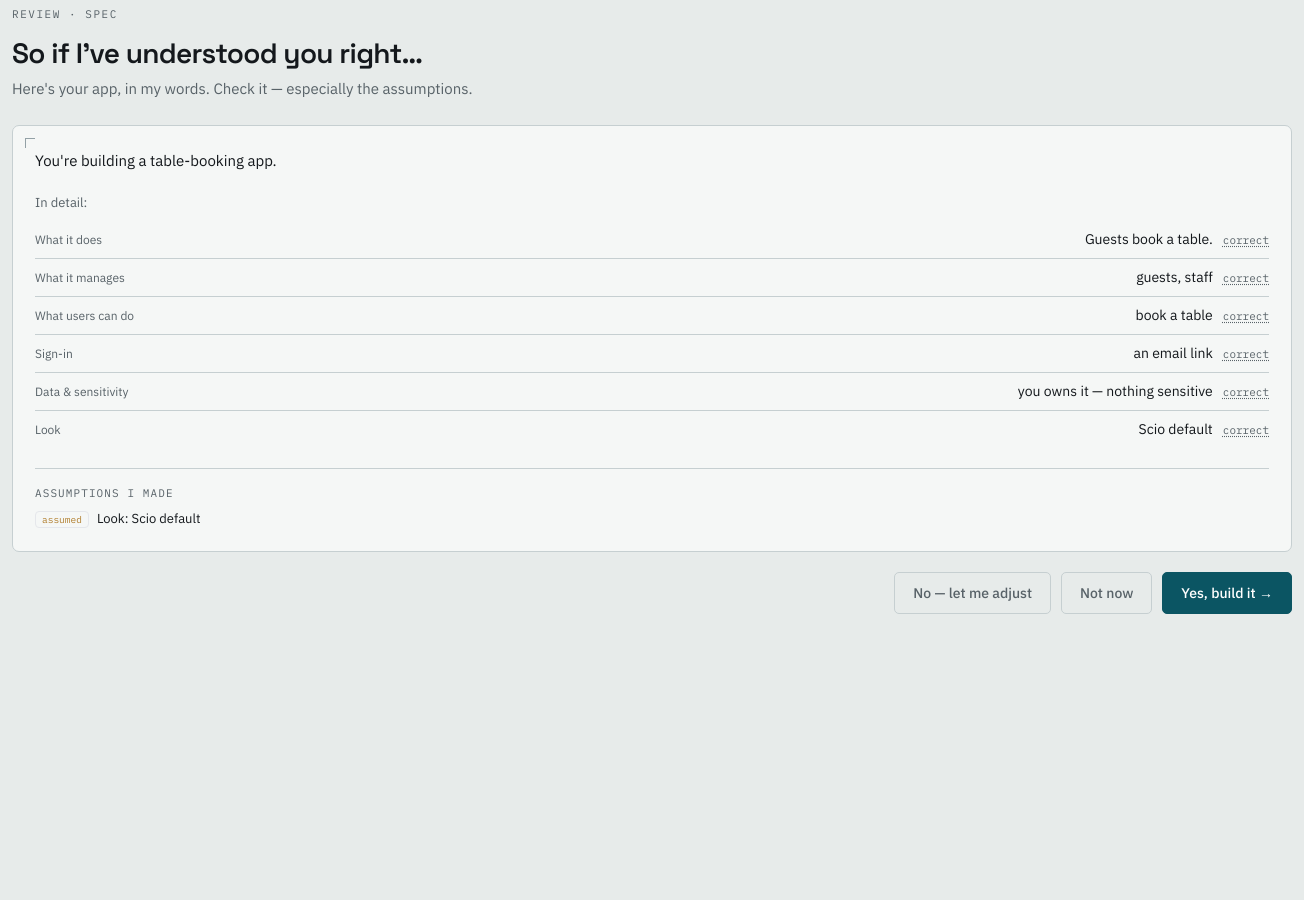
Test: A correction that opens new work › says what it opened and asks for it inline
Click the button "correct" next to "guests, staff" at (1246,278), box [1223,270,1269,286]
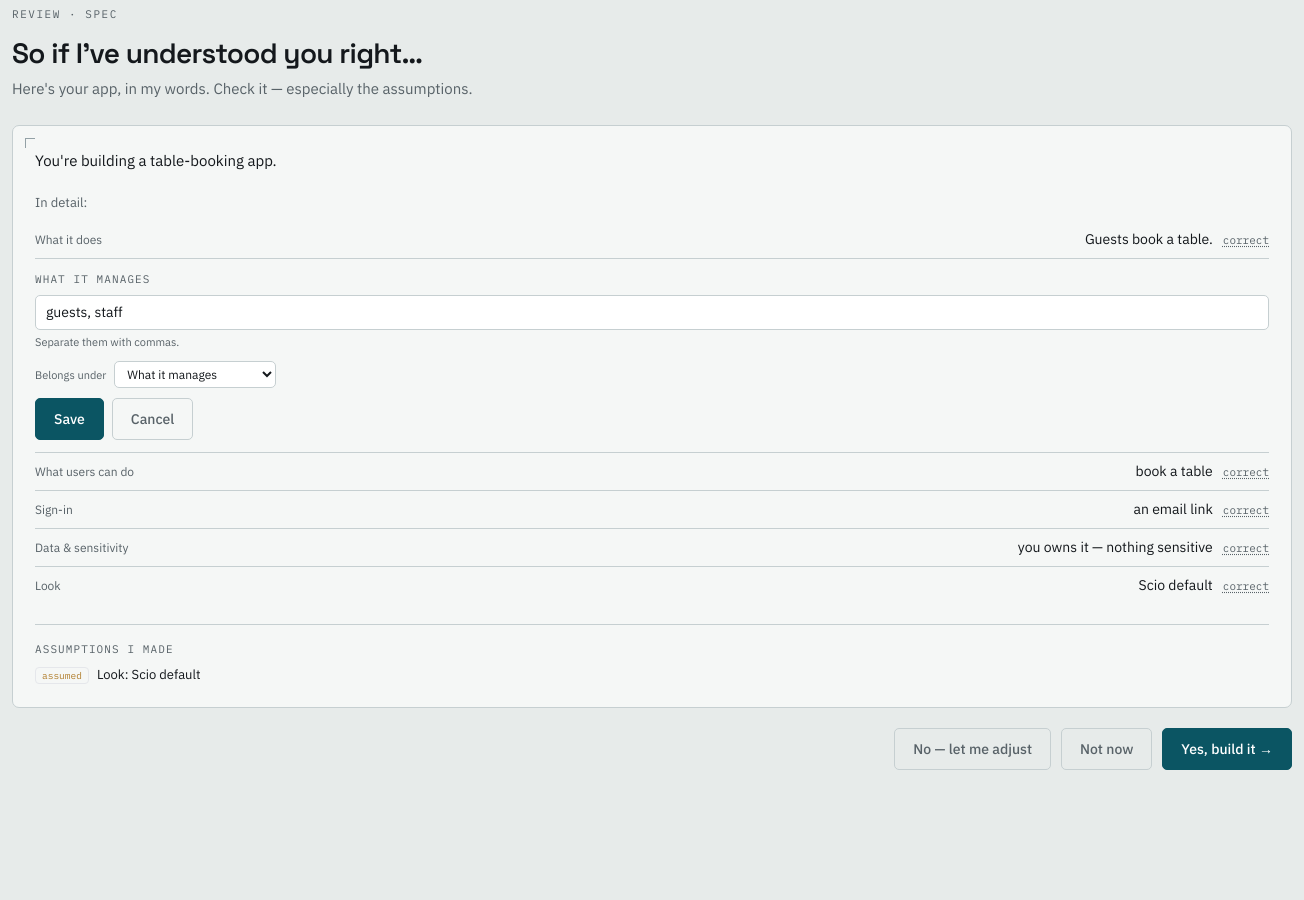
Select "Who it's for" in the dropdown labelled "Belongs under" at (195,374), box [114,360,276,388]
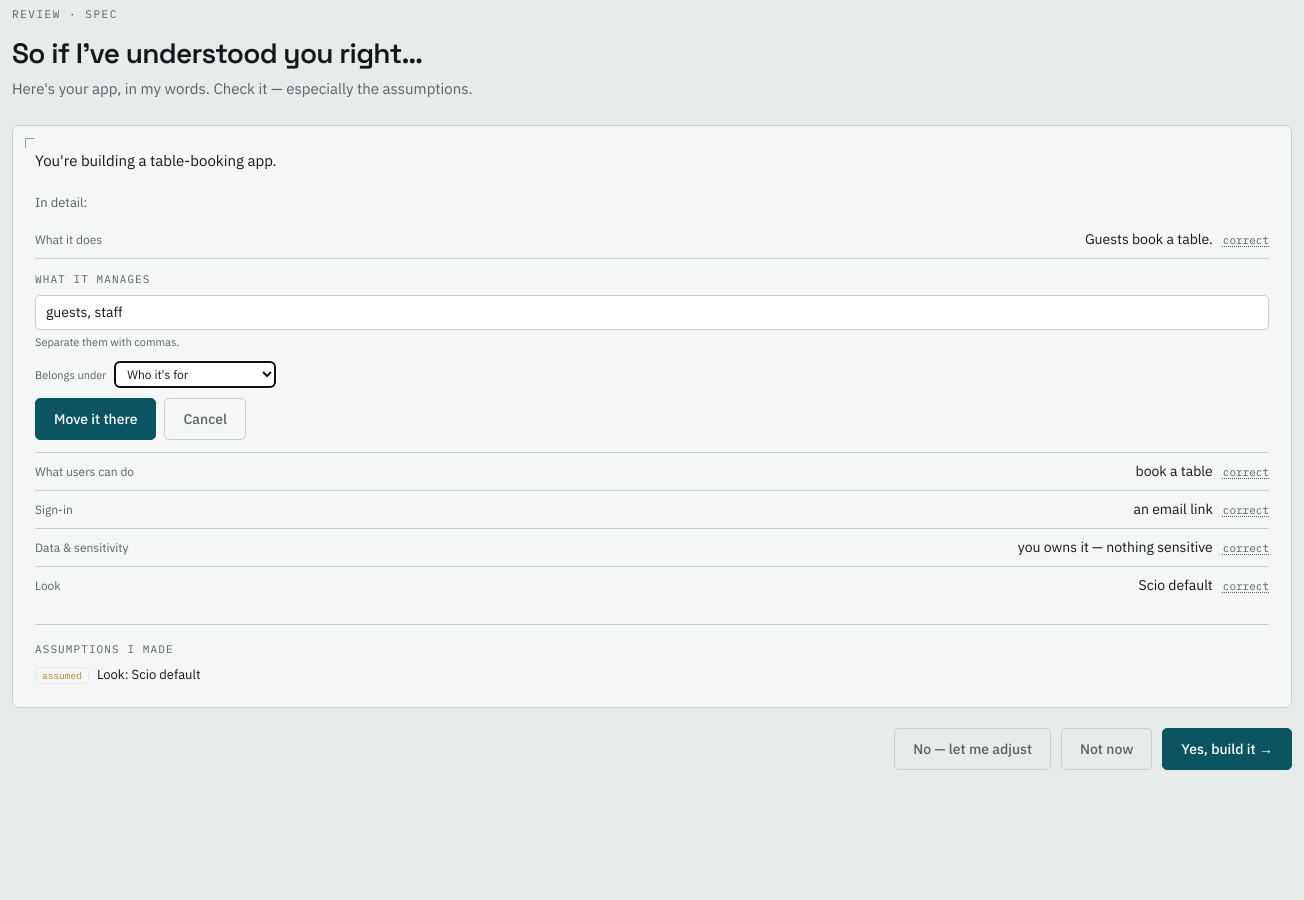
Click the button "Move it there" at (96,418), box [35,398,156,440]
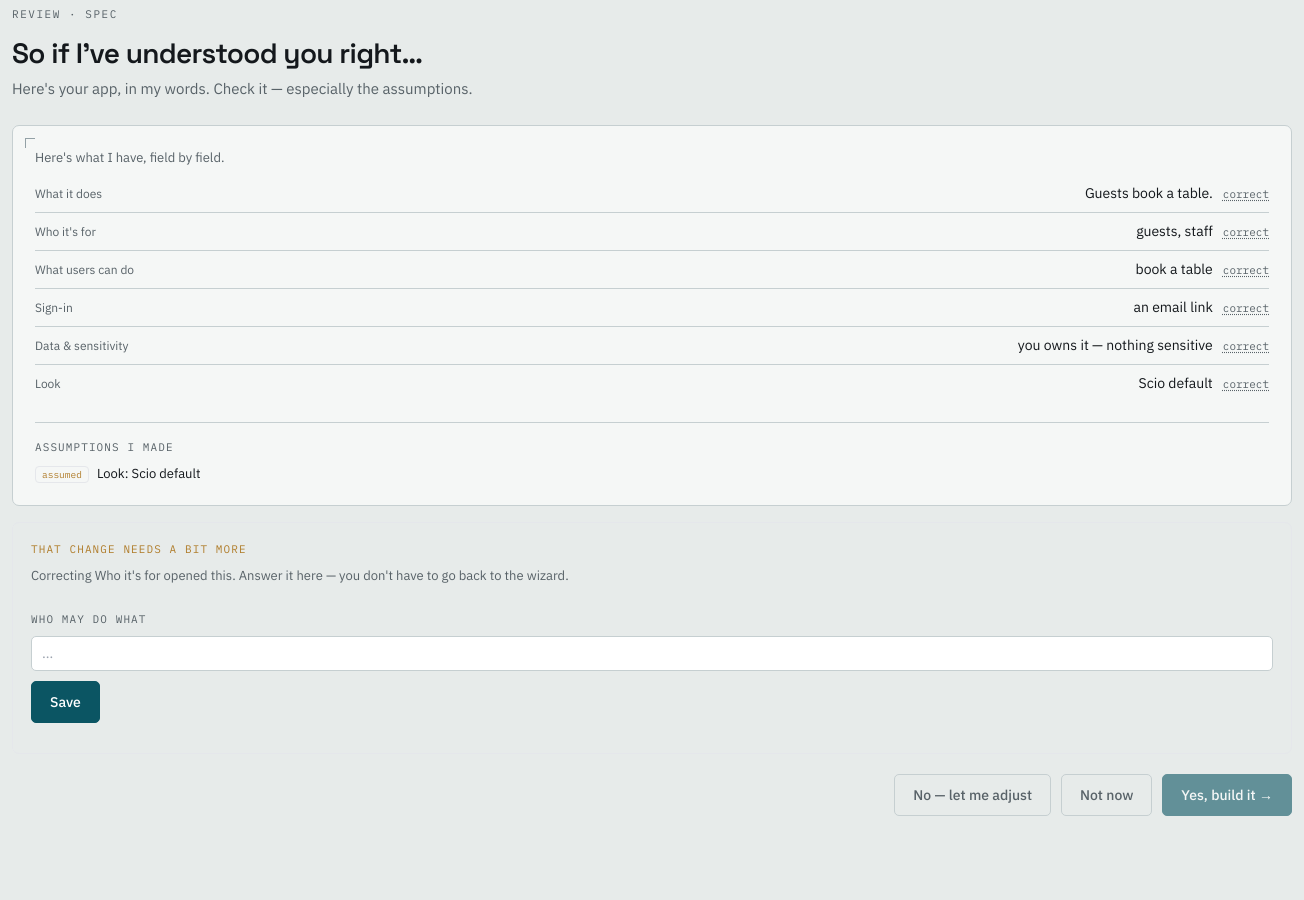
Check: the text "That change needs a bit more" is shown, box [31,542,247,556]
Check: the element with test id "editor-role_permissions" is shown, box [31,599,1273,734]
Check: the text "don't have to go back to the wizard" is shown, box [31,566,569,584]
